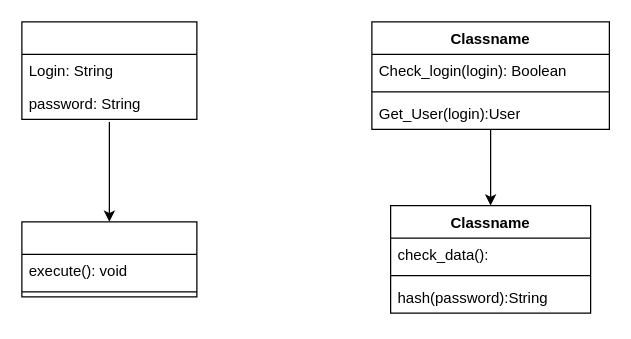
Image size: 631x339. Some labels were removed from this diagram. The box of each missing label's shape, as (x1, y1, x2, y2) in pixels:
Authorisation: (21, 221, 197, 297)
User: (21, 21, 197, 119)
